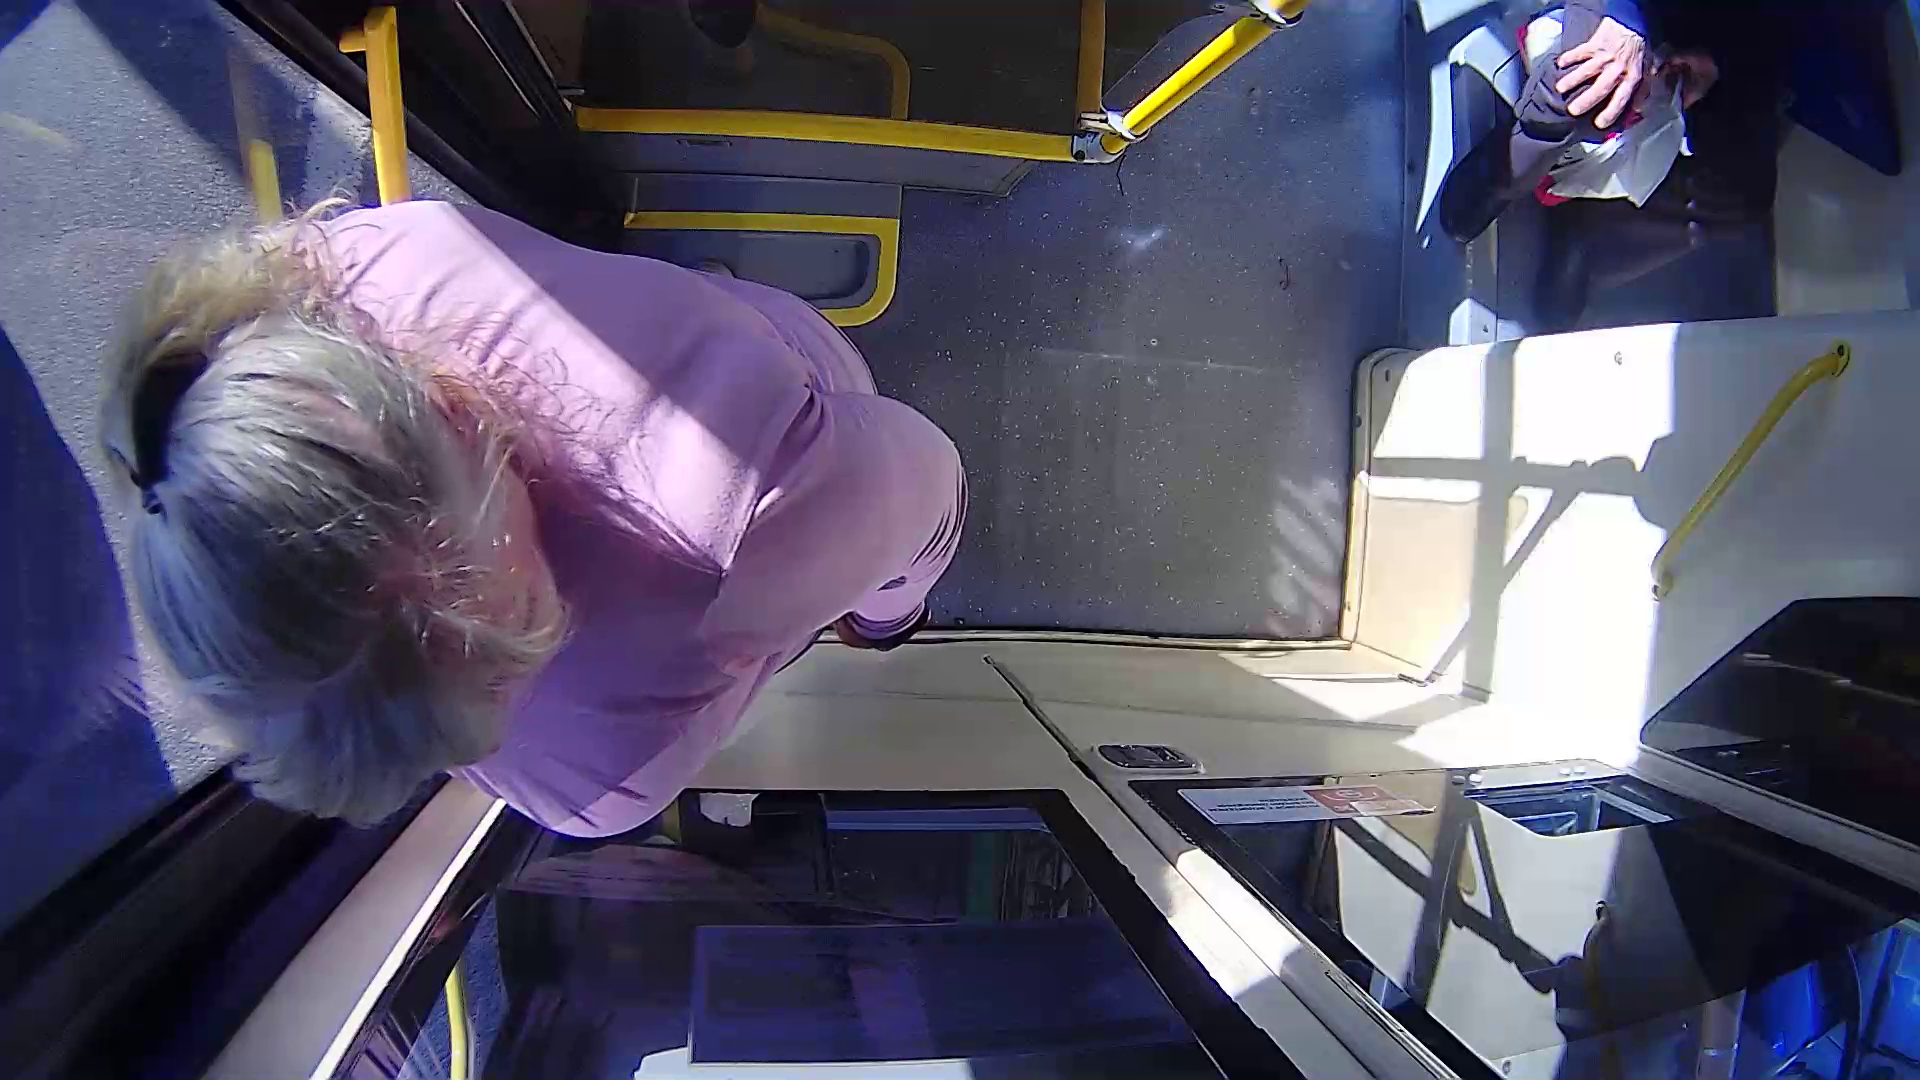person: (118, 155, 1155, 846)
